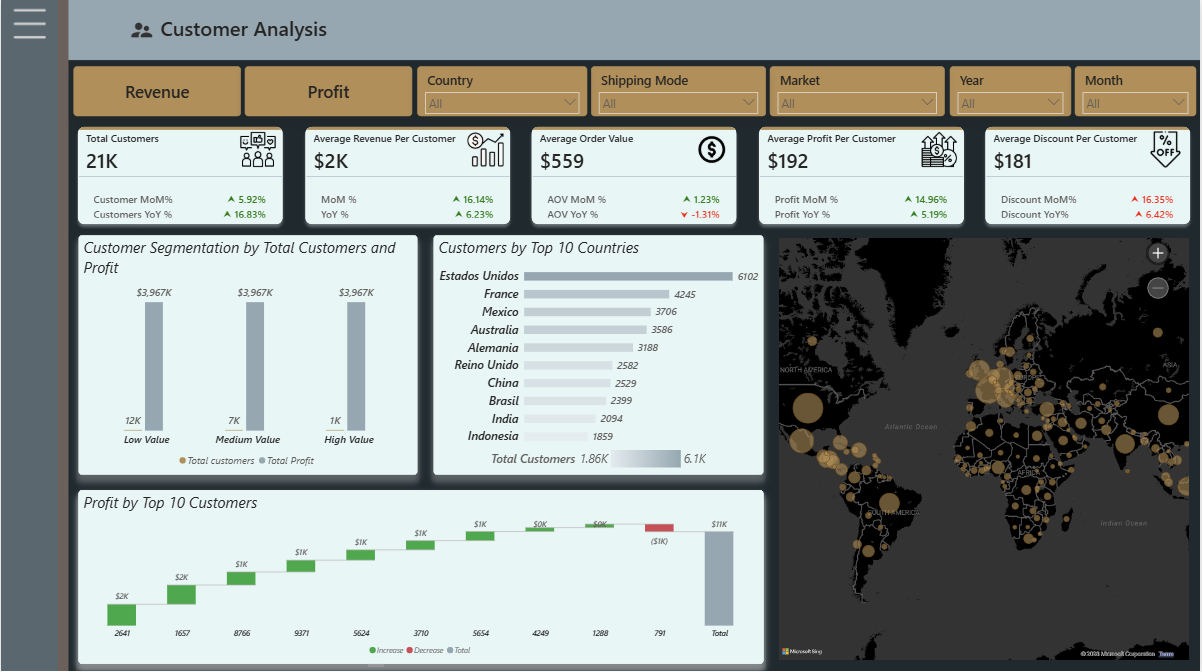

Layout of this report page (visuals, bound fields, positions):
{"tool":"powerbi","page":{"name":"Customer Analysis","canvas":[1920,1080],"ordinal":2},"visuals":[{"type":"actionButton","title":"Close Button Cover","box":[464,0,1456,1078],"z":0,"group":"g2"},{"type":"actionButton","title":"Revenue Button","box":[116,106,268,80],"z":0},{"type":"actionButton","title":"Operations & Shippings","box":[76,478,344,60],"z":0,"group":"g1"},{"type":"actionButton","title":"Close Button","box":[464,0,80,80],"z":1000,"group":"g2"},{"type":"actionButton","title":"Profit Button","box":[390.7,106,268,80],"z":1000},{"type":"actionButton","title":"Product Analysis","box":[76,389.5,344,60],"z":1000,"group":"g1"},{"type":"shape","title":"Page Navigation (Menu Bar)","box":[106,0,360,1078],"z":2000,"group":"g2"},{"type":"actionButton","title":"Customer Analysis","box":[76,301,344,60],"z":2000,"group":"g1"},{"type":"group","id":"g1","title":"Pages","box":[76,124,344,414],"z":3000,"group":"g2"},{"type":"actionButton","title":"Executive Overview","box":[76,212.5,344,60],"z":3000,"group":"g1"},{"type":"actionButton","title":"Home","box":[76,124,344,60],"z":4000,"group":"g1"},{"type":"textbox","box":[250,18,306,60],"z":5000},{"type":"image","box":[198,28,54,40],"z":6000},{"type":"slicer","fields":{"Values":["gold fact_orders_cleaned_v2.order_date.Variation.Date Hierarchy.Year"]},"box":[1517.3,106,194,80],"z":7000},{"type":"slicer","fields":{"Values":["gold fact_orders_cleaned_v2.order_date.Variation.Date Hierarchy.Month"]},"box":[1718,106,194,80],"z":8000},{"type":"slicer","fields":{"Values":["gold fact_orders_cleaned_v2.market"]},"box":[1230.7,106,280,80],"z":9000},{"type":"slicer","fields":{"Values":["gold fact_orders_cleaned_v2.shipping_mode"]},"box":[944,106,280,80],"z":10000},{"type":"slicer","fields":{"Values":["gold fact_orders_cleaned_v2.order_country"]},"box":[665.3,106,272,80],"z":11000},{"type":"clusteredColumnChart","title":"Customer Segmentation by Total Customers and Profit","fields":{"Category":["gold vw_customer_segmentation.customer_segment"],"Y":["Sum(gold vw_customer_segmentation.customers)","Measure's Table.Total Profit"]},"box":[124,376,542,384],"z":12000},{"type":"map","fields":{"Size":["Measure's Table.Total Customers"],"Category":["gold fact_orders_cleaned_v2.order_country"]},"box":[1240,376,666,686],"z":13000},{"type":"clusteredBarChart","title":"Customers by Top 10 Countries","fields":{"Category":["gold fact_orders_cleaned_v2.order_country"],"Y":["Measure's Table.Total Customers"]},"box":[692,376,528,384],"z":14000},{"type":"waterfallChart","title":"Revenue by Top 10 Customers","fields":{"Category":["gold dim_customers.customer_id"],"Y":["Measure's Table.Total Revenue"]},"box":[124,784,1096,278],"z":15000},{"type":"cardVisual","fields":{"Data":["Measure's Table.Total Customers"]},"box":[106,186,362,190],"z":16000},{"type":"cardVisual","fields":{"Data":["Measure's Table.Revenue Per Customer"]},"box":[469,186,362,190],"z":17000},{"type":"cardVisual","fields":{"Data":["Measure's Table.Average Order Value"]},"box":[832,186,362,190],"z":18000},{"type":"cardVisual","fields":{"Data":["Measure's Table.Profit Per Customer"]},"box":[1195,186,362,190],"z":19000},{"type":"cardVisual","fields":{"Data":["Measure's Table.Discount Per Customer"]},"box":[1558,186,362,190],"z":20000},{"type":"group","id":"g2","title":"Menu Objects","box":[76,0,1844,1078],"z":23250},{"type":"actionButton","title":"Menu Button","box":[15,7,60,60],"z":23500}]}

Visuals, with their boxes in screenshot pixels (x1, y1, x2, y2), scaled from the page's 1920x1080 canvas onto the 1202x672 screenshot:
"Close Button Cover" actionButton: (x1=290, y1=0, x2=1201, y2=671)
"Revenue Button" actionButton: (x1=73, y1=66, x2=240, y2=116)
"Operations & Shippings" actionButton: (x1=48, y1=297, x2=263, y2=335)
"Close Button" actionButton: (x1=290, y1=0, x2=341, y2=50)
"Profit Button" actionButton: (x1=245, y1=66, x2=412, y2=116)
"Product Analysis" actionButton: (x1=48, y1=242, x2=263, y2=280)
"Page Navigation (Menu Bar)" shape: (x1=66, y1=0, x2=292, y2=671)
"Customer Analysis" actionButton: (x1=48, y1=187, x2=263, y2=225)
"Pages" group: (x1=48, y1=77, x2=263, y2=335)
"Executive Overview" actionButton: (x1=48, y1=132, x2=263, y2=170)
"Home" actionButton: (x1=48, y1=77, x2=263, y2=114)
textbox: (x1=157, y1=11, x2=348, y2=49)
image: (x1=124, y1=17, x2=158, y2=42)
slicer - gold fact_orders_cleaned_v2.order_date.Variation.Date Hierarchy.Year: (x1=950, y1=66, x2=1071, y2=116)
slicer - gold fact_orders_cleaned_v2.order_date.Variation.Date Hierarchy.Month: (x1=1076, y1=66, x2=1197, y2=116)
slicer - gold fact_orders_cleaned_v2.market: (x1=770, y1=66, x2=946, y2=116)
slicer - gold fact_orders_cleaned_v2.shipping_mode: (x1=591, y1=66, x2=766, y2=116)
slicer - gold fact_orders_cleaned_v2.order_country: (x1=417, y1=66, x2=587, y2=116)
"Customer Segmentation by Total Customers and Profit" clusteredColumnChart: (x1=78, y1=234, x2=417, y2=473)
map - Measure's Table.Total Customers x gold fact_orders_cleaned_v2.order_country: (x1=776, y1=234, x2=1193, y2=661)
"Customers by Top 10 Countries" clusteredBarChart: (x1=433, y1=234, x2=764, y2=473)
"Revenue by Top 10 Customers" waterfallChart: (x1=78, y1=488, x2=764, y2=661)
cardVisual - Measure's Table.Total Customers: (x1=66, y1=116, x2=293, y2=234)
cardVisual - Measure's Table.Revenue Per Customer: (x1=294, y1=116, x2=520, y2=234)
cardVisual - Measure's Table.Average Order Value: (x1=521, y1=116, x2=747, y2=234)
cardVisual - Measure's Table.Profit Per Customer: (x1=748, y1=116, x2=975, y2=234)
cardVisual - Measure's Table.Discount Per Customer: (x1=975, y1=116, x2=1201, y2=234)
"Menu Objects" group: (x1=48, y1=0, x2=1201, y2=671)
"Menu Button" actionButton: (x1=9, y1=4, x2=47, y2=42)
